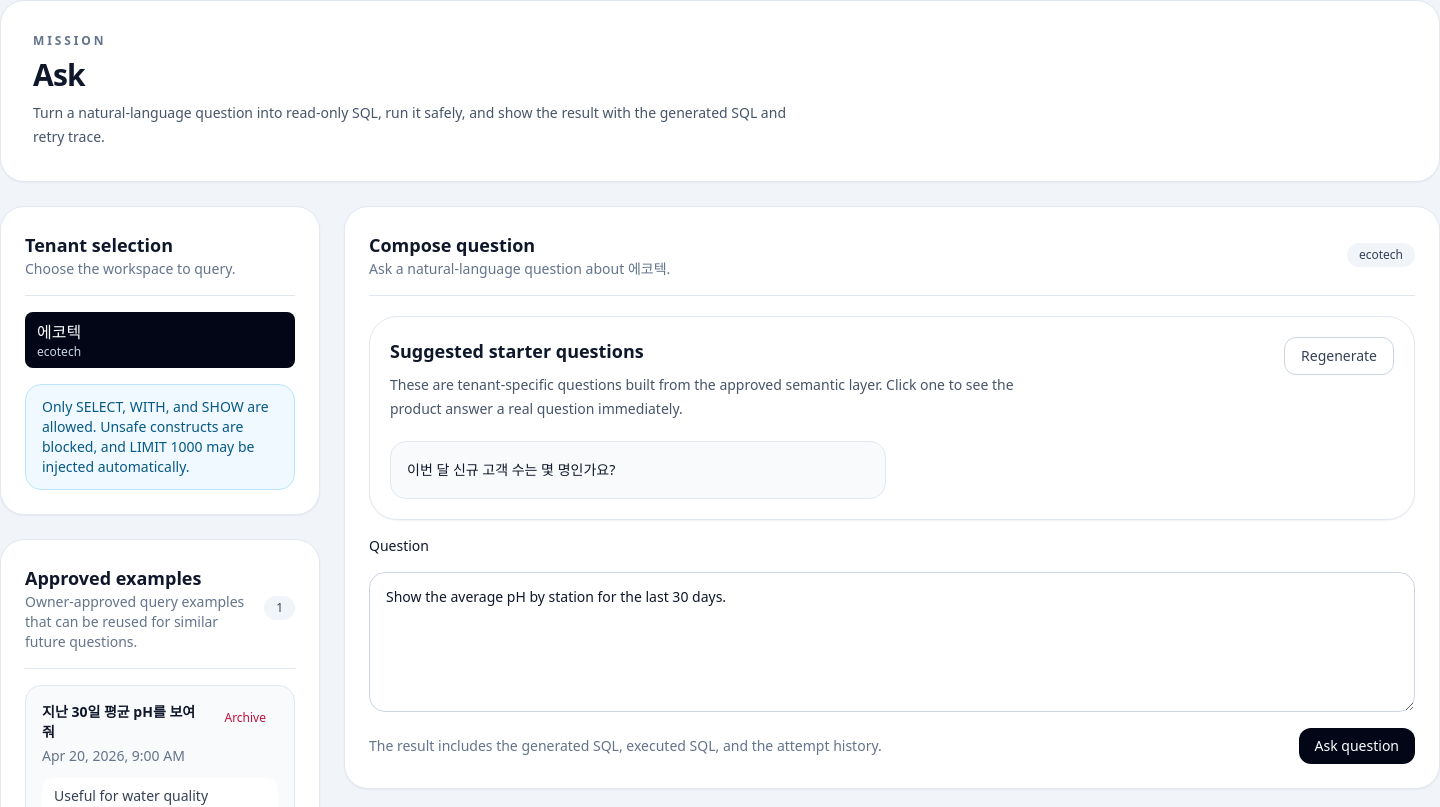
ChatPage › archives a canonical example and refreshes the list
Check: the text "지난 30일 평균 pH를 보여줘" is shown, box top-left (42, 702), bottom-right (200, 742)
Click the button "Archive": {"x": 245, "y": 718} top-left (212, 702), bottom-right (278, 734)
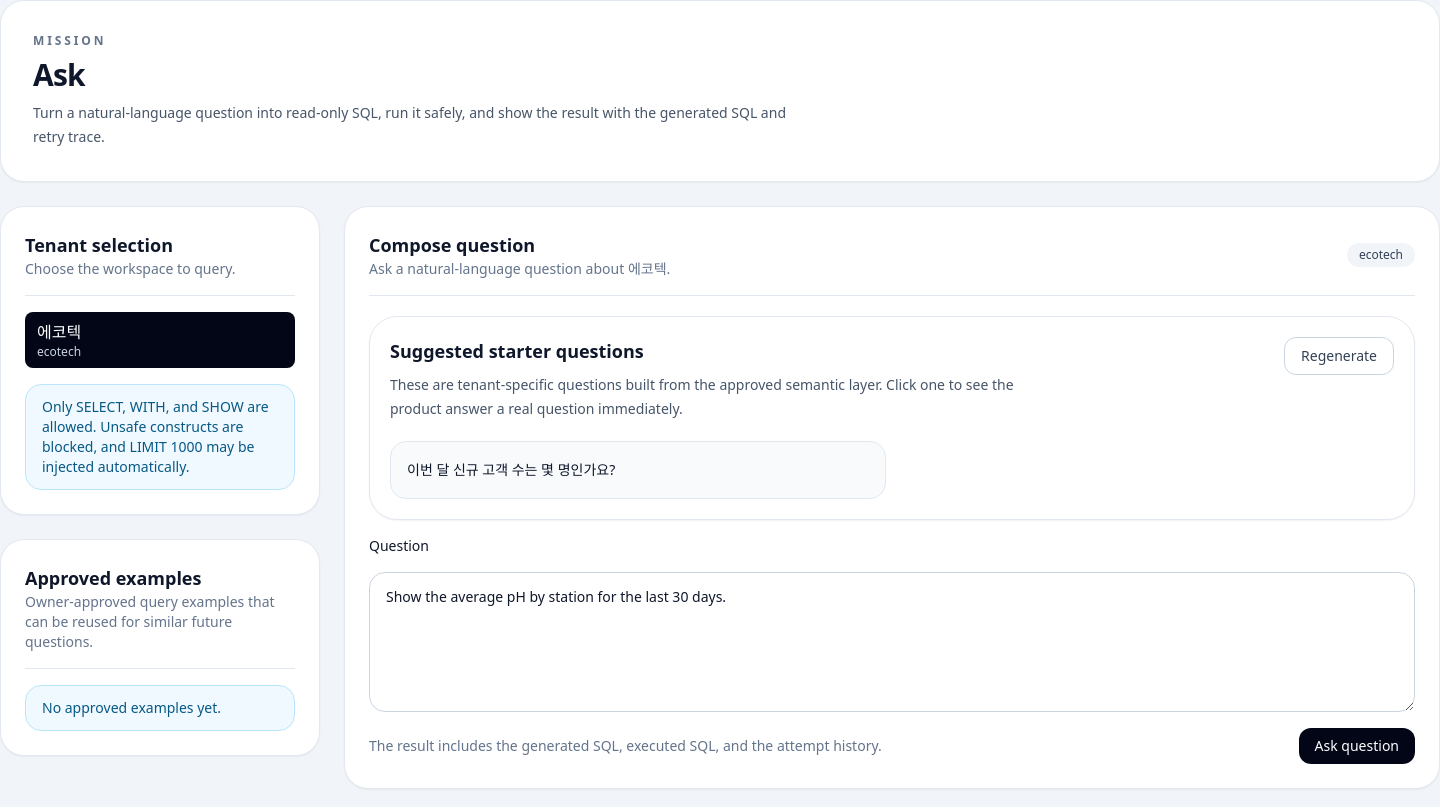
Check: the text "No approved examples yet." is shown, box top-left (25, 685), bottom-right (295, 731)
